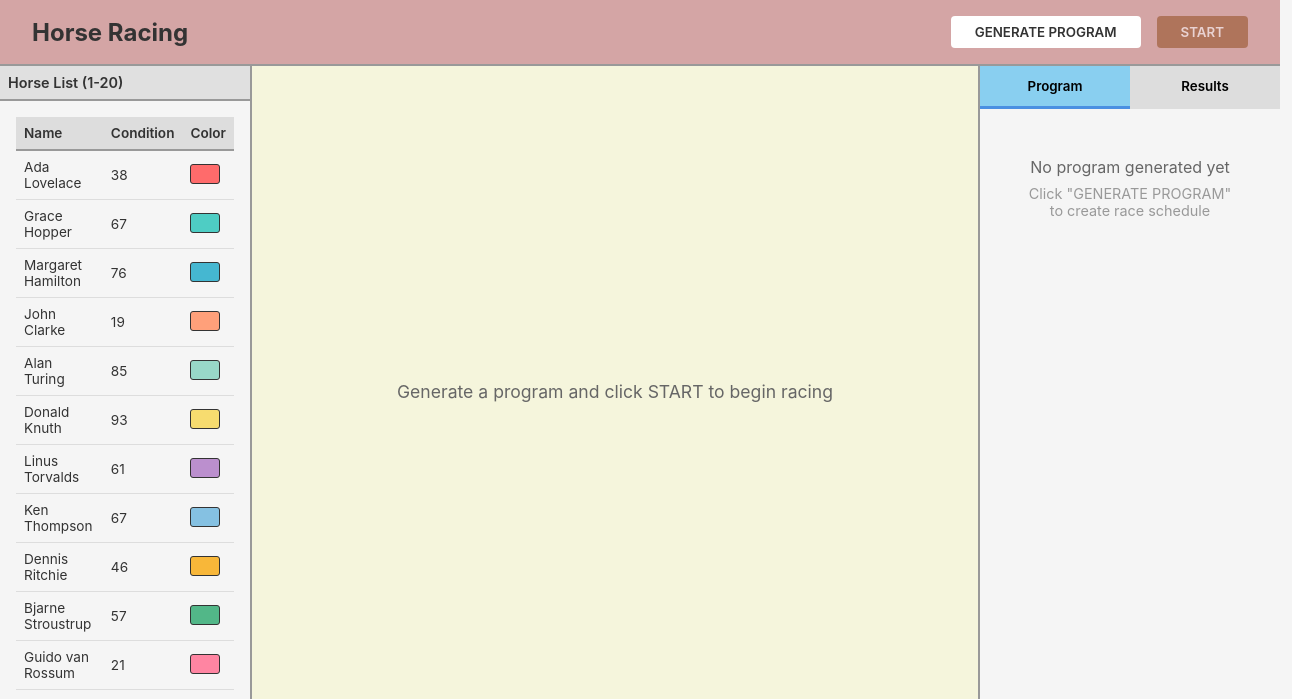
Scenario: Horse Racing Game - UI Validation › Button States › should change PAUSE back to START when paused
The width and height of the screenshot is (1292, 699).
Click the button "GENERATE PROGRAM". click: (1046, 32)
box: left=951, top=16, right=1141, bottom=48
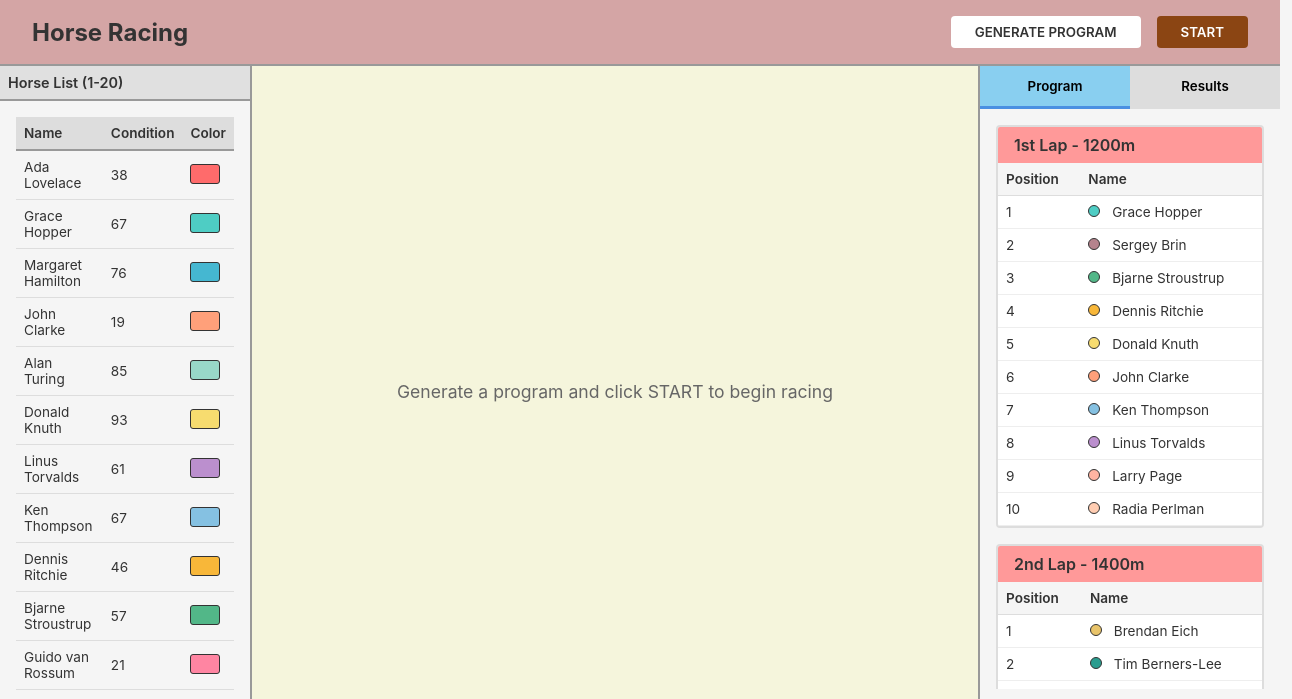
Click the button "START". click: (1203, 32)
box: left=1157, top=16, right=1248, bottom=48
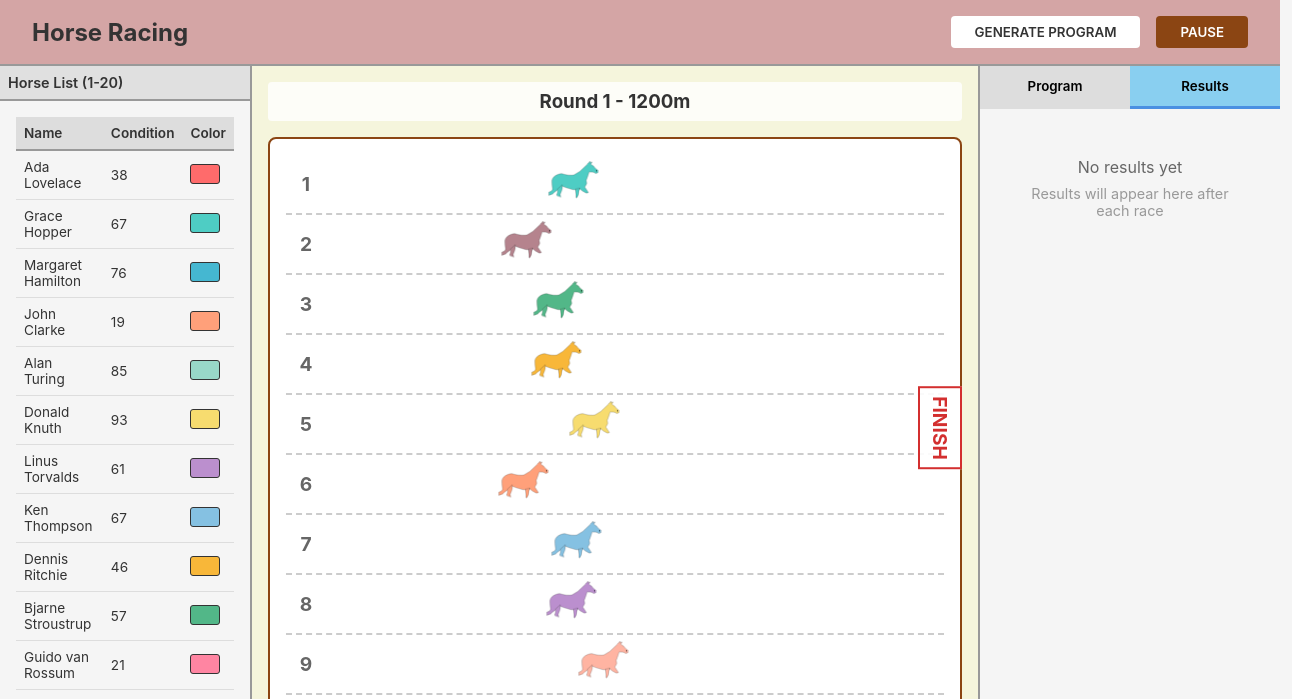
Click the button "PAUSE". click: (1203, 32)
box: left=1157, top=16, right=1249, bottom=48
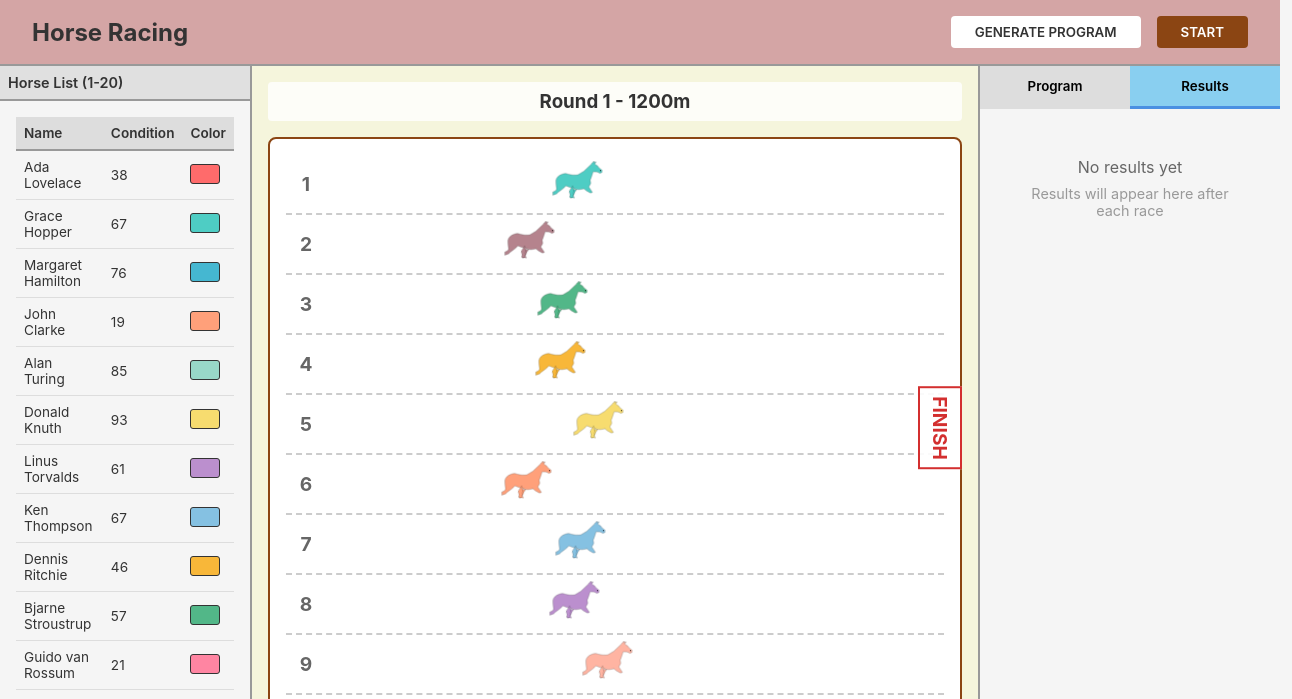
Now the button "START" is shown, box left=1157, top=16, right=1248, bottom=48
